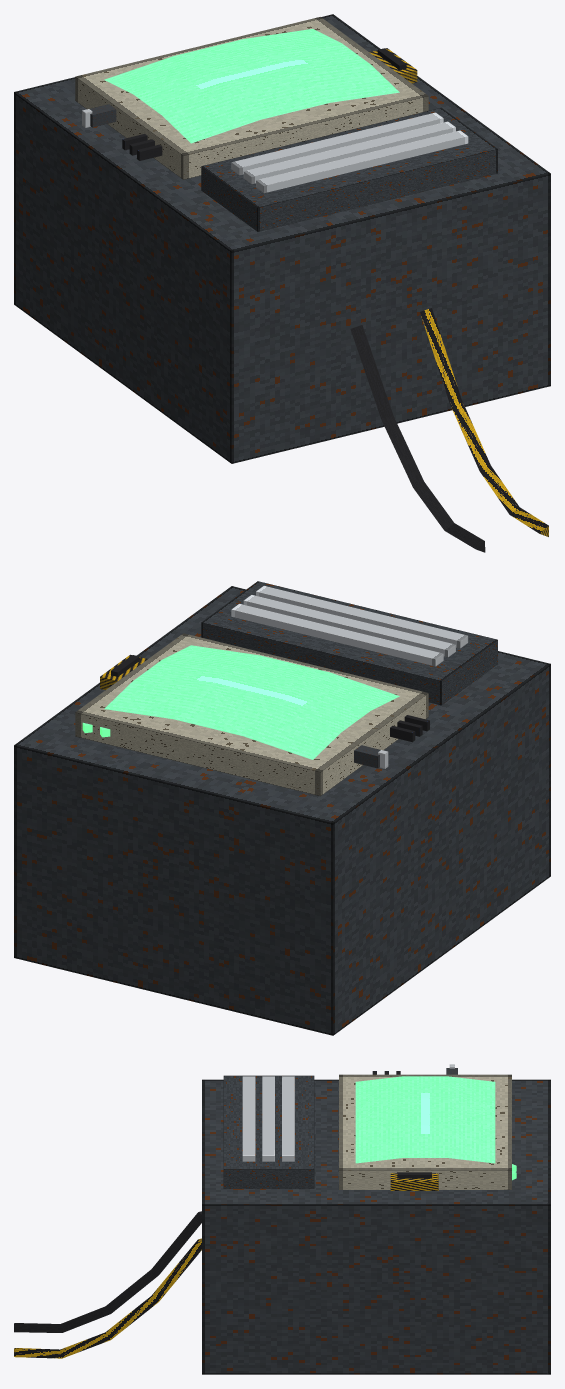
The model's file is terminal_industrial_hazard.glb.
3 renders of one model, top to bottom at view 1: azimuth 30°, elevation 25°; view 2: azimuth 150°, elevation 25°; view 3: azimuth 270°, elevation 25°, orthographic. The views are drawn at different scales.
Parts seen in each view (by area): view 1: terminal_industrial_hazard; view 2: terminal_industrial_hazard; view 3: terminal_industrial_hazard.
Part boxes in pixels (x1,y1,x2,y2): terminal_industrial_hazard: (14,14,550,552); terminal_industrial_hazard: (14,581,550,1035); terminal_industrial_hazard: (14,1064,550,1374).
Bounding box in the file's own units: 0.55 × 0.4753 × 1.
10 materials, 10 textured.
